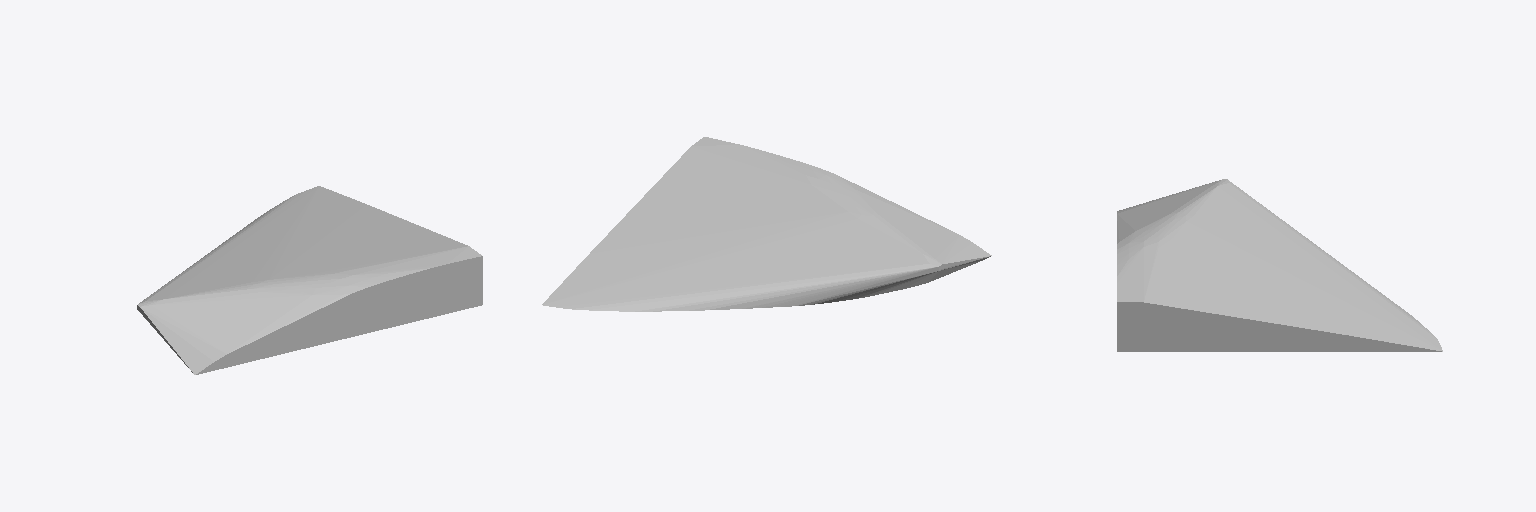
The model's file is Tomato_19_collision_5.obj.
3 renders of one model, left to right at view 1: azimuth 30°, elevation 25°; view 2: azimuth 150°, elevation 25°; view 3: azimuth 270°, elevation 25°, orthographic.
Size of the model in its own units: 0.0277 by 0.0045 by 0.027.